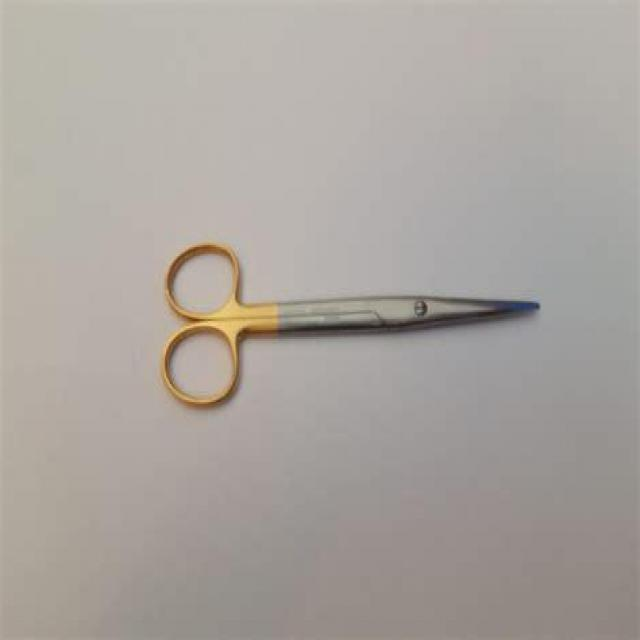Mayo_metz: (158, 231, 546, 418)
